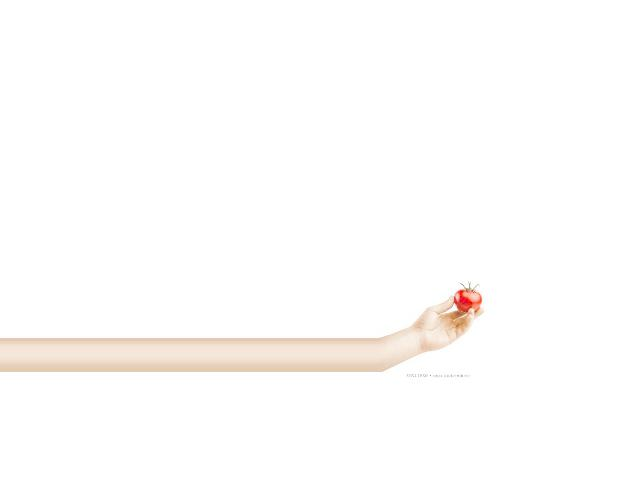tomato: (453, 289, 481, 313)
